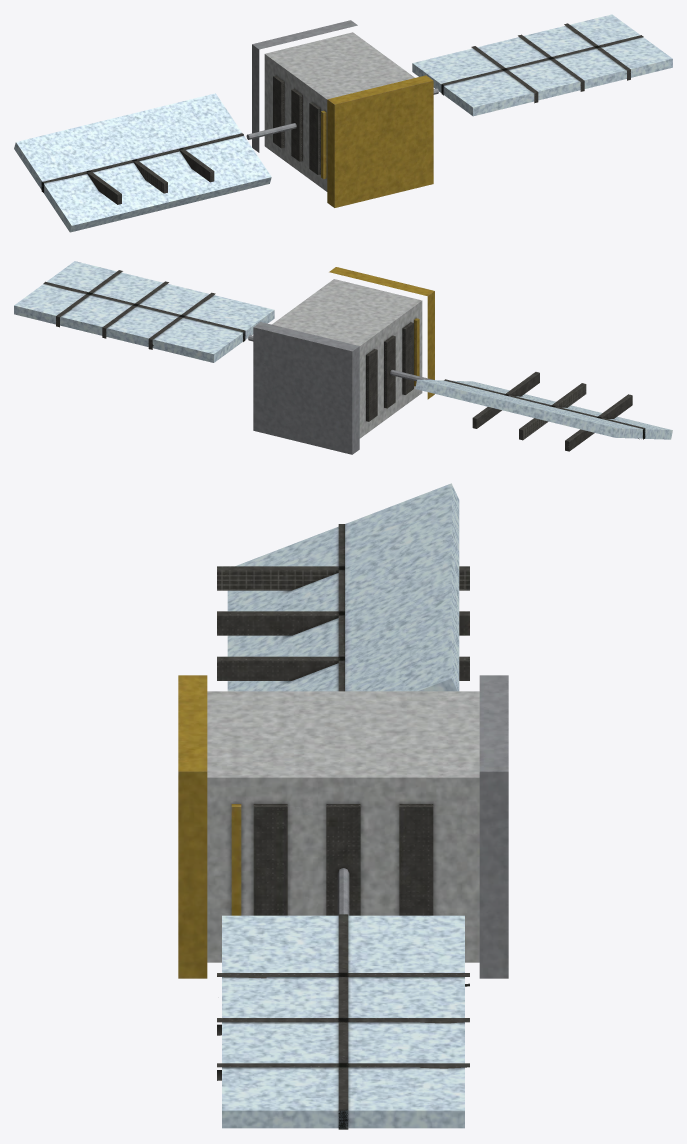
Rendered from sd_prop_sat2.glb.
3 views of the same model, one above another, from view 1: azimuth 30°, elevation 25°; view 2: azimuth 150°, elevation 25°; view 3: azimuth 270°, elevation 25° (orthographic). The views are drawn at different scales.
Parts seen in each view (by area): view 1: LOD0_body; view 2: LOD0_body; view 3: LOD0_body, LOD1_body.
Boxes of the visible parts, x1,y1,x2,y2 form: LOD0_body: (14,14,672,232); LOD0_body: (14,261,672,454); LOD0_body: (178,483,508,1129); LOD1_body: (178,524,469,1080).
Size of the model in its own units: 1 by 0.1649 by 0.2386.
1 material, 1 textured.
